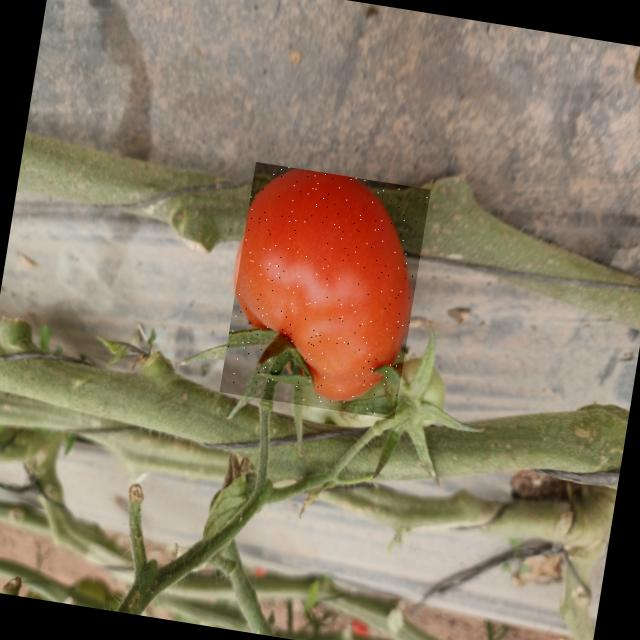Ripe Tomato: (220, 162, 430, 420)
